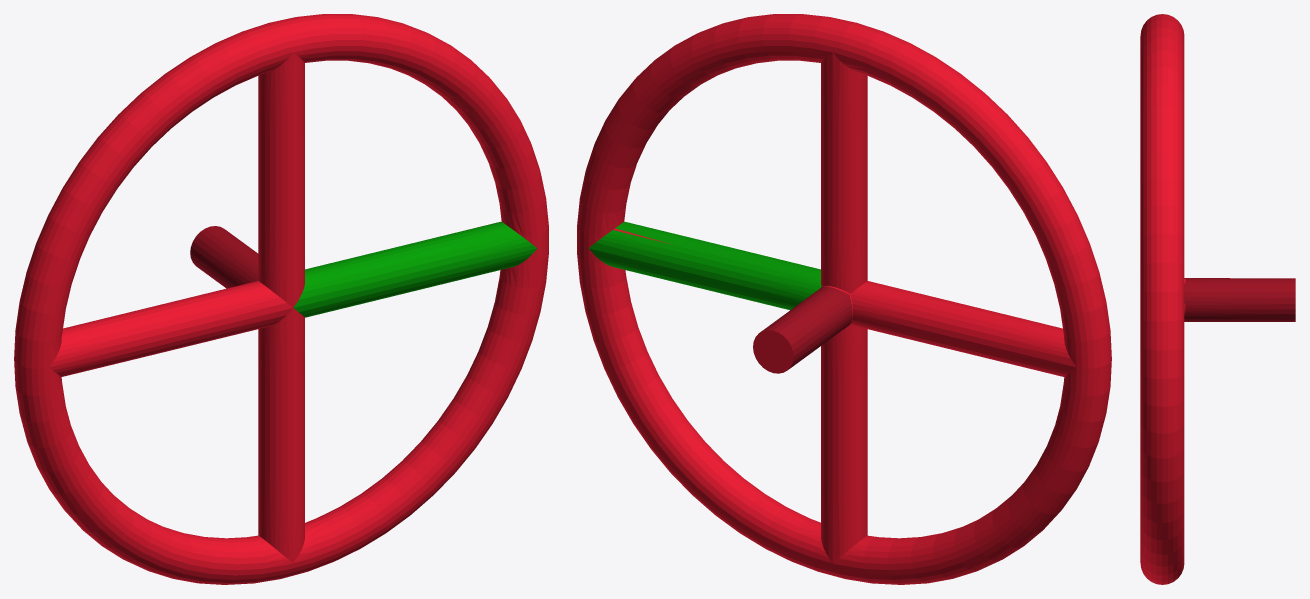
The model's file is WheelDisconnectedColor.dae.
3 renders of one model, left to right at view 1: azimuth 30°, elevation 25°; view 2: azimuth 150°, elevation 25°; view 3: azimuth 270°, elevation 25°, orthographic. The views are drawn at different scales.
Parts seen in each view (by area): view 1: WHEELTASK; view 2: WHEELTASK; view 3: WHEELTASK.
Part boxes in pixels (box(x1,y1,x2,y2)): WHEELTASK: box(14, 14, 548, 584); WHEELTASK: box(577, 14, 1111, 584); WHEELTASK: box(1140, 14, 1295, 584).
Size of the model in its own units: 33 by 8.96 by 33.01.
